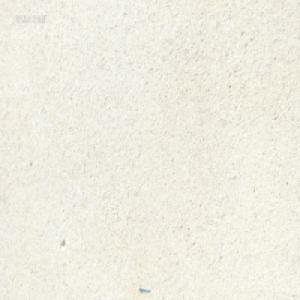Nail: (138, 283, 150, 292)
